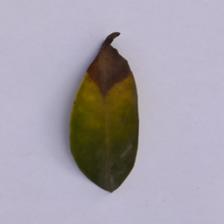black spot: (66, 26, 138, 93)
